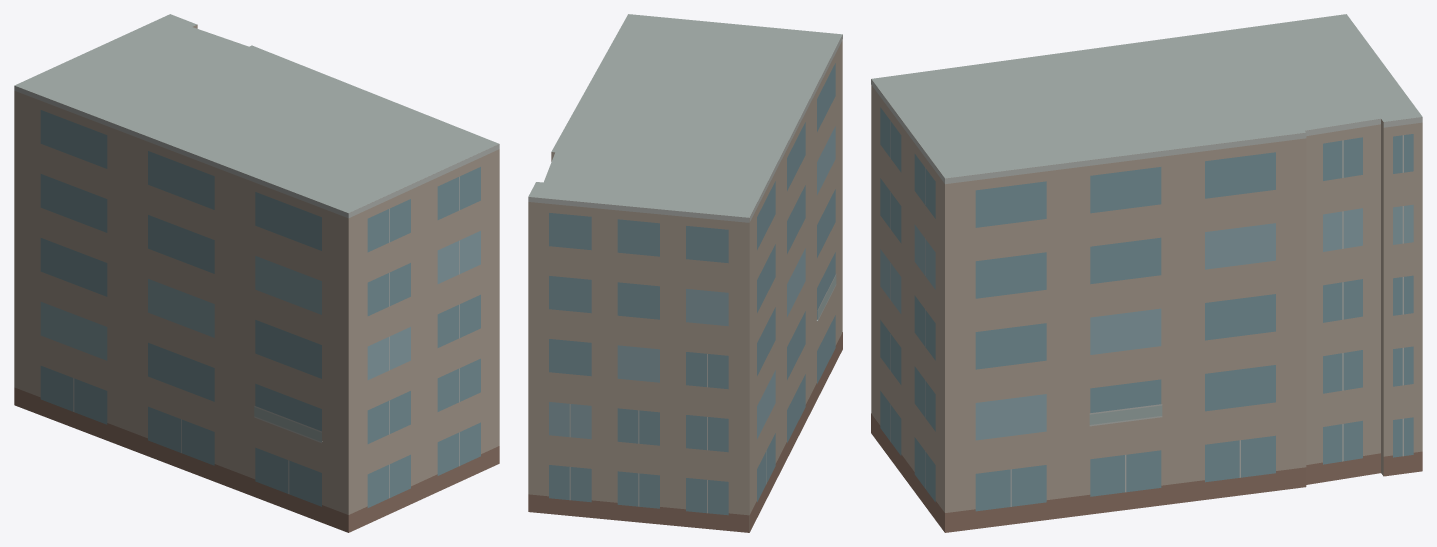
File: survey-upis-32966472.glb
3 renders of one model, left to right at view 1: azimuth 30°, elevation 25°; view 2: azimuth 150°, elevation 25°; view 3: azimuth 270°, elevation 25°, orthographic. The views are drawn at different scales.
Parts seen in each view (by area): view 1: survey-upis-32966472.tmp; view 2: survey-upis-32966472.tmp; view 3: survey-upis-32966472.tmp.
Part boxes in pixels (box(x1,y1,x2,y2)): survey-upis-32966472.tmp: box(14, 14, 499, 532); survey-upis-32966472.tmp: box(528, 14, 842, 532); survey-upis-32966472.tmp: box(871, 14, 1422, 532).
Bounding box in the file's own units: 15.2 × 15.25 × 21.52.
